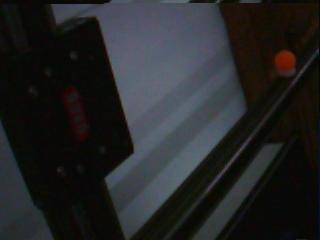oball: (274, 49, 296, 72)
